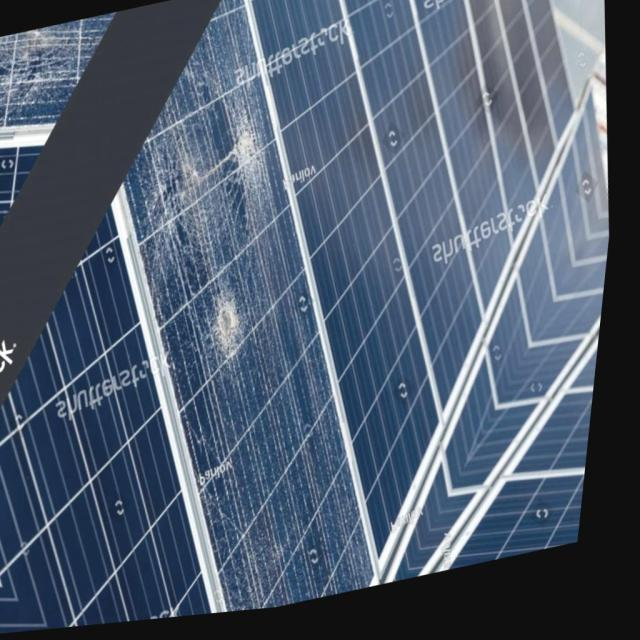cracked: (142, 1, 380, 617), (0, 12, 114, 140)
